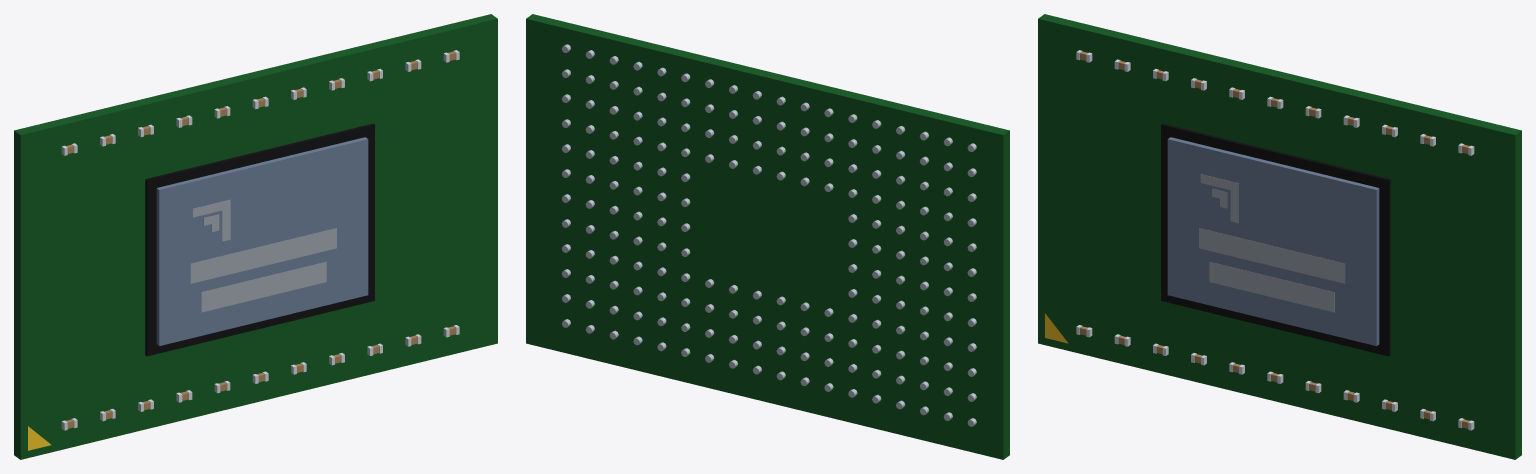
The model's file is CPU_AMD_RYZEN5_8645HS_LAPTOP_BGA.obj.
3 views of the same model, side by side, from view 1: azimuth 30°, elevation 25°; view 2: azimuth 150°, elevation 25°; view 3: azimuth 330°, elevation 25° (orthographic).
Size of the model in its own units: 40 by 26 by 2.02.
